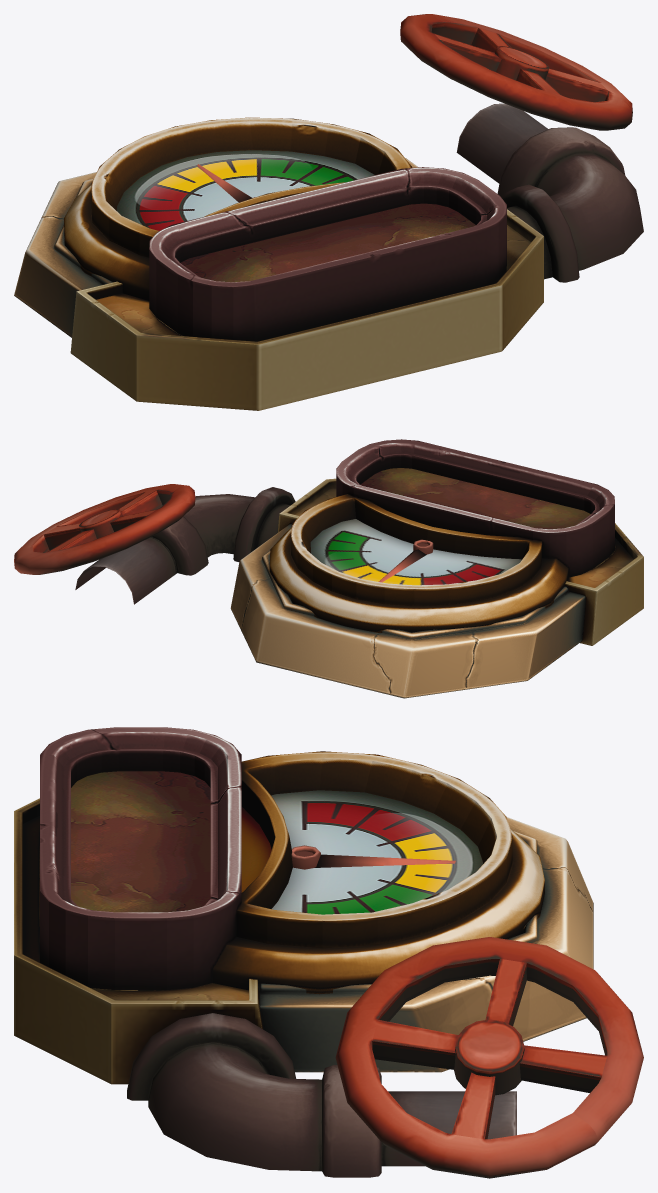
File: CZB_3D_Overlord_gauge_LOD0.FBX
3 renders of one model, top to bottom at view 1: azimuth 30°, elevation 25°; view 2: azimuth 150°, elevation 25°; view 3: azimuth 270°, elevation 25°, orthographic. The views are drawn at different scales.
Visible parts, largest first — view 1: gauge_base_LOD0, gauge_pipe_LOD0, gauge_valve_LOD0; view 2: gauge_base_LOD0, gauge_pipe_LOD0, gauge_valve_LOD0, gauge_indicator_LOD0; view 3: gauge_base_LOD0, gauge_valve_LOD0, gauge_pipe_LOD0, gauge_indicator_LOD0.
Boxes of the visible parts, x1=… form: gauge_base_LOD0: x1=14, y1=117, x2=543, y2=410; gauge_pipe_LOD0: x1=456, y1=103, x2=643, y2=282; gauge_valve_LOD0: x1=400, y1=14, x2=632, y2=130; gauge_base_LOD0: x1=230, y1=439, x2=643, y2=698; gauge_pipe_LOD0: x1=75, y1=487, x2=295, y2=604; gauge_valve_LOD0: x1=14, y1=484, x2=195, y2=574; gauge_indicator_LOD0: x1=378, y1=539, x2=433, y2=582; gauge_base_LOD0: x1=14, y1=727, x2=593, y2=1084; gauge_valve_LOD0: x1=335, y1=937, x2=643, y2=1178; gauge_pipe_LOD0: x1=127, y1=1013, x2=516, y2=1177; gauge_indicator_LOD0: x1=291, y1=845, x2=455, y2=869.
Bounding box in the file's own units: 1.67 × 0.3477 × 1.18.
